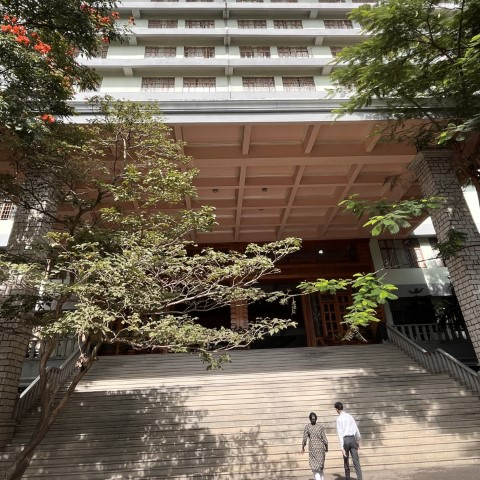Central Block: (117, 8, 480, 480)
